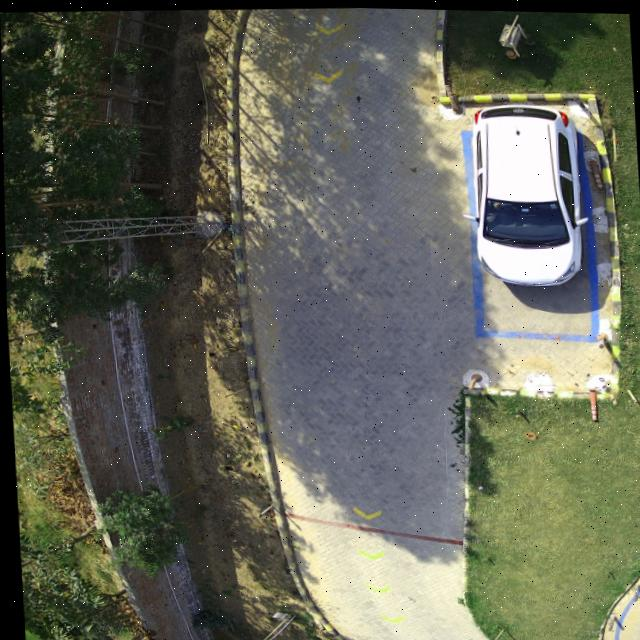car: (470, 101, 583, 281)
